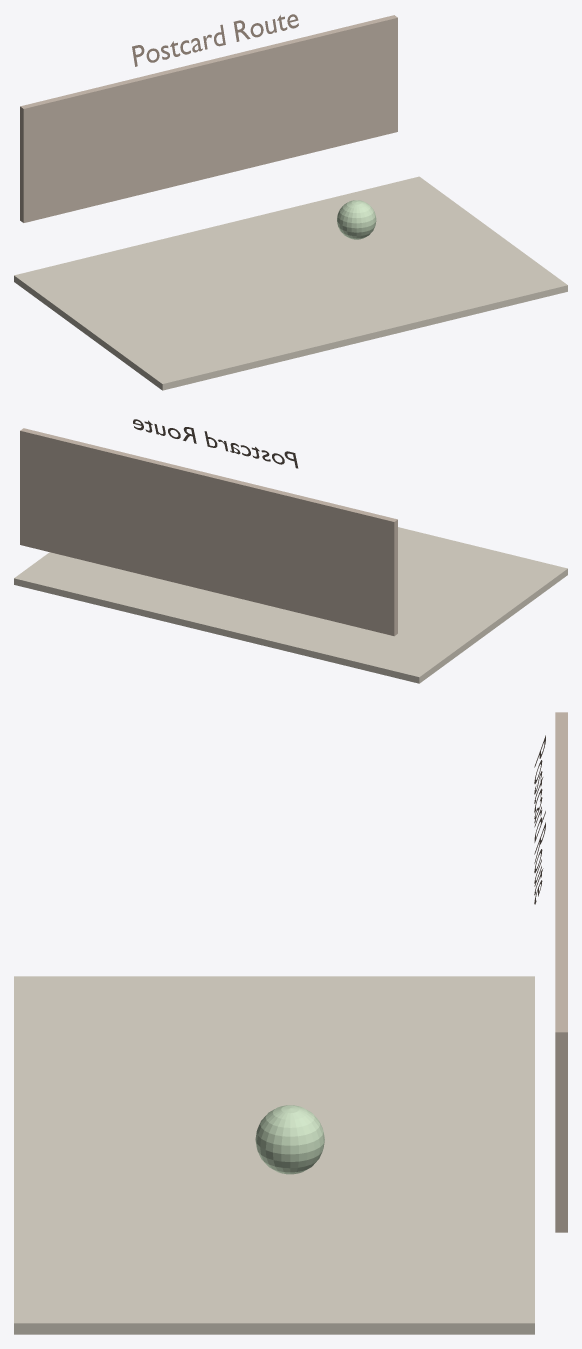
File: 04_event_commands.glb
3 views of the same model, one above another, from view 1: azimuth 30°, elevation 25°; view 2: azimuth 150°, elevation 25°; view 3: azimuth 270°, elevation 25° (orthographic). The views are drawn at different scales.
Parts seen in each view (by area): view 1: PaperFloor-col, BackCard, TitleLabel, PostcardBell; view 2: BackCard, PaperFloor-col, TitleLabel; view 3: PaperFloor-col, BackCard, PostcardBell, TitleLabel.
Boxes of the visible parts, box(x1,y1,x2,y2) form: PaperFloor-col: box(14, 176, 567, 390); BackCard: box(20, 15, 397, 222); TitleLabel: box(132, 14, 298, 66); PostcardBell: box(337, 200, 376, 239); BackCard: box(20, 428, 397, 636); PaperFloor-col: box(14, 527, 567, 683); TitleLabel: box(133, 419, 298, 468); PaperFloor-col: box(14, 976, 534, 1334); BackCard: box(555, 712, 567, 1232); PostcardBell: box(255, 1105, 324, 1174); TitleLabel: box(534, 735, 545, 904).
Bounding box in the file's own units: 5.2 × 2.49 × 3.51.
